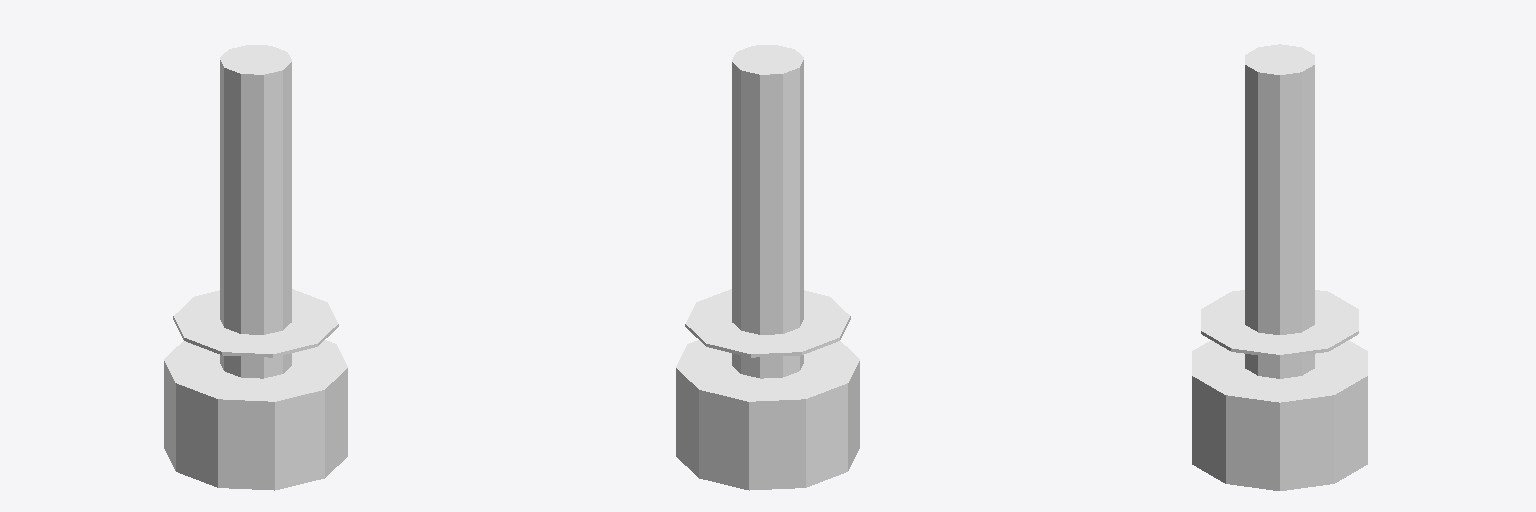
File: CenterSupport.obj
3 renders of one model, left to right at view 1: azimuth 30°, elevation 25°; view 2: azimuth 150°, elevation 25°; view 3: azimuth 270°, elevation 25°, orthographic.
Parts seen in each view (by area): view 1: Support; view 2: Support; view 3: Support.
Part boxes in pixels (x1,y1,x2,y2): Support: (164, 45, 347, 490); Support: (676, 45, 859, 490); Support: (1192, 44, 1367, 490).
Bounding box in the file's own units: 2.14 × 5 × 2.04.